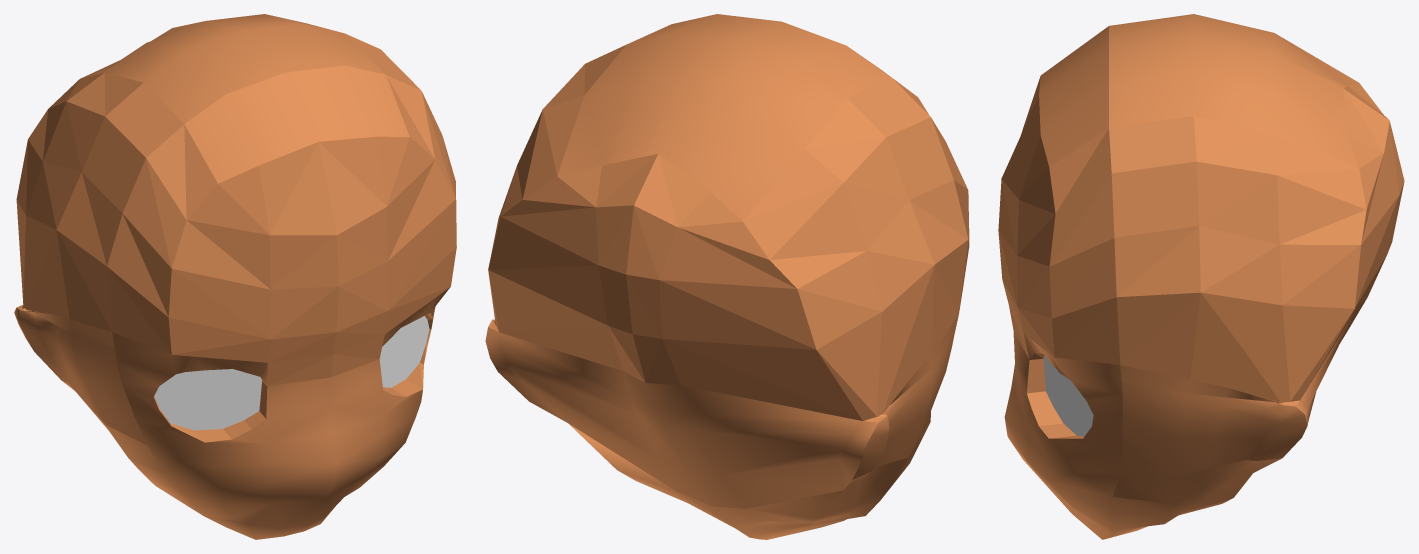
File: yuuta head.FBX
3 renders of one model, left to right at view 1: azimuth 30°, elevation 25°; view 2: azimuth 150°, elevation 25°; view 3: azimuth 270°, elevation 25°, orthographic. The views are drawn at different scales.
Parts seen in each view (by area): view 1: Head; view 2: Head; view 3: Head.
Part boxes in pixels (x1=…): Head: x1=14, y1=14, x2=456, y2=539; Head: x1=485, y1=14, x2=969, y2=539; Head: x1=998, y1=14, x2=1404, y2=539.
Size of the model in its own units: 29.86 by 27.45 by 36.82.
